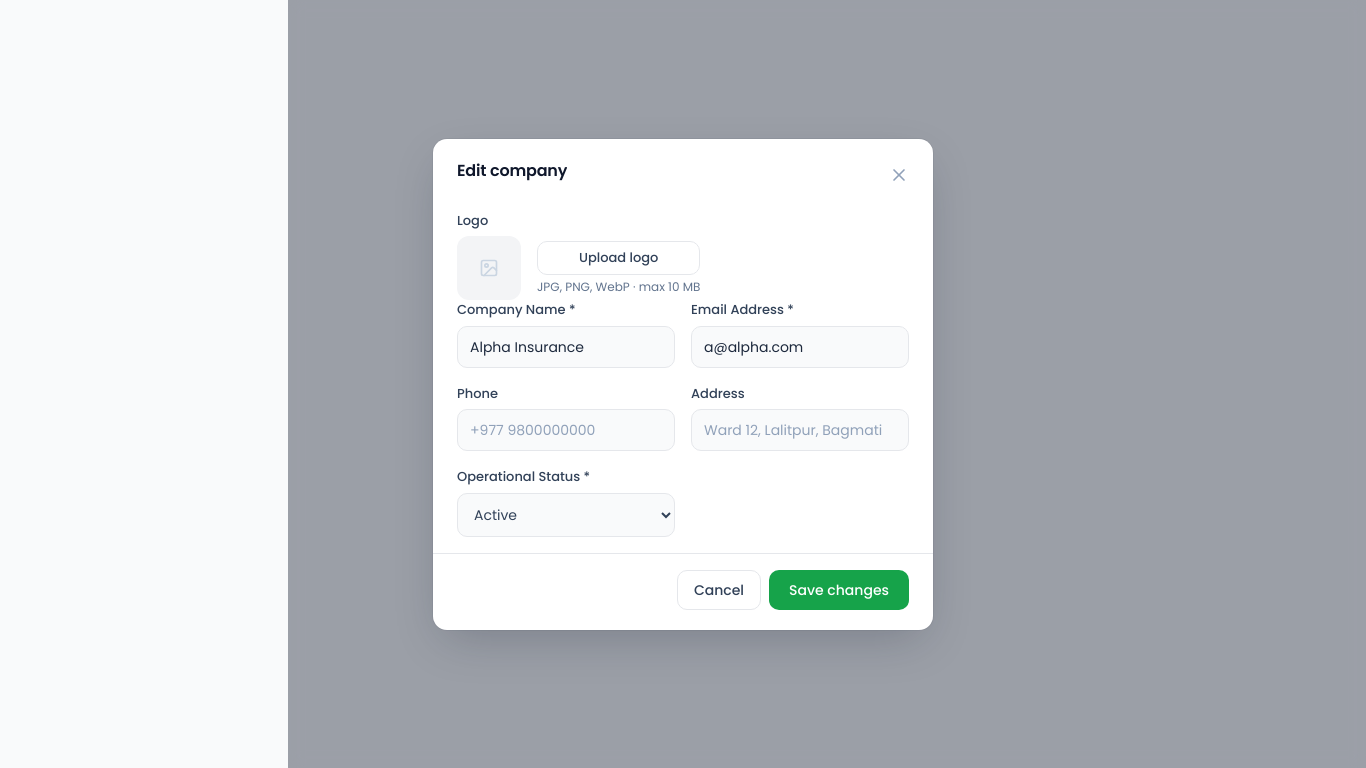
Test: CompanyModal › typed text is kept verbatim — "Jonas=" used to become "J"
Replace the text in the field showing "Alpha Insurance" with "Jonas= & Sons" at (566, 346), box x1=457 y1=326 x2=675 y2=368
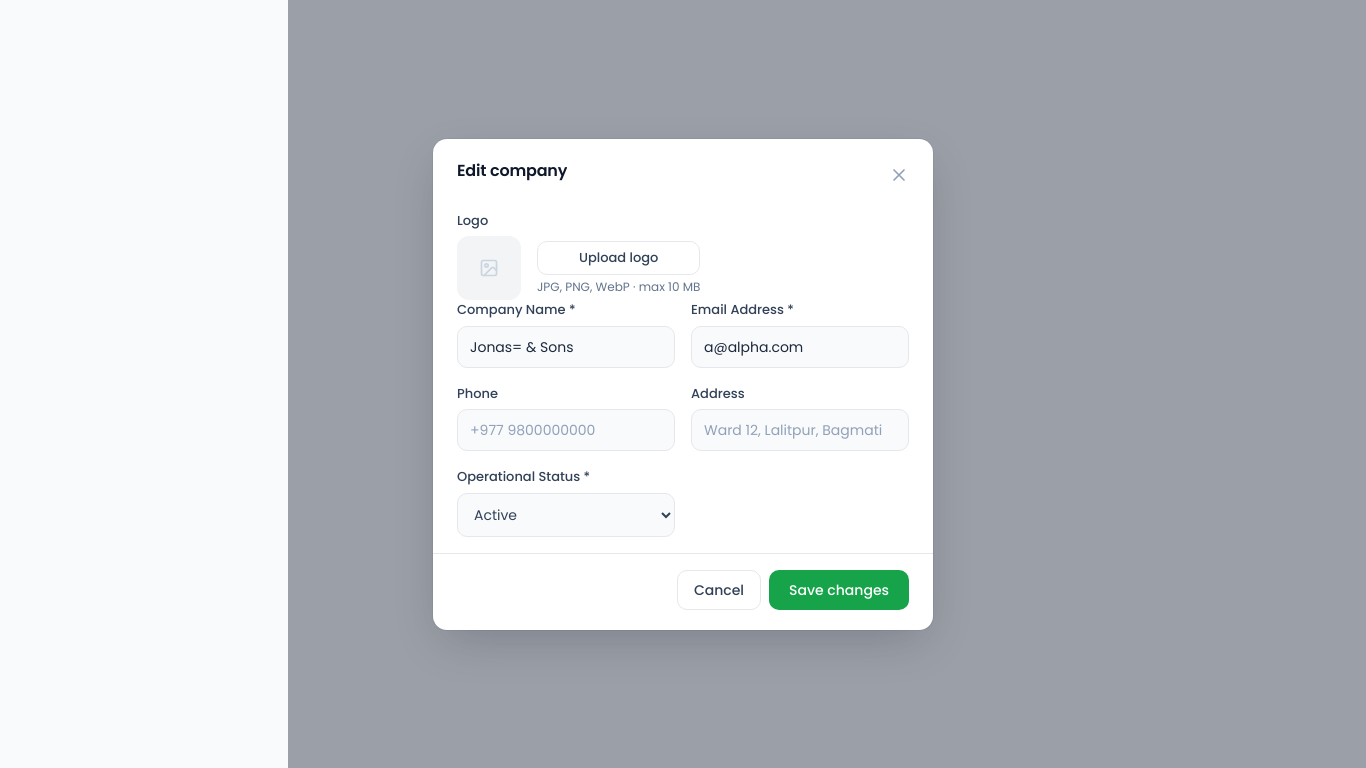
Replace the text in the field showing "Alpha Insurance" with "Jonas= & Sons <b>" at (566, 346), box x1=457 y1=326 x2=675 y2=368
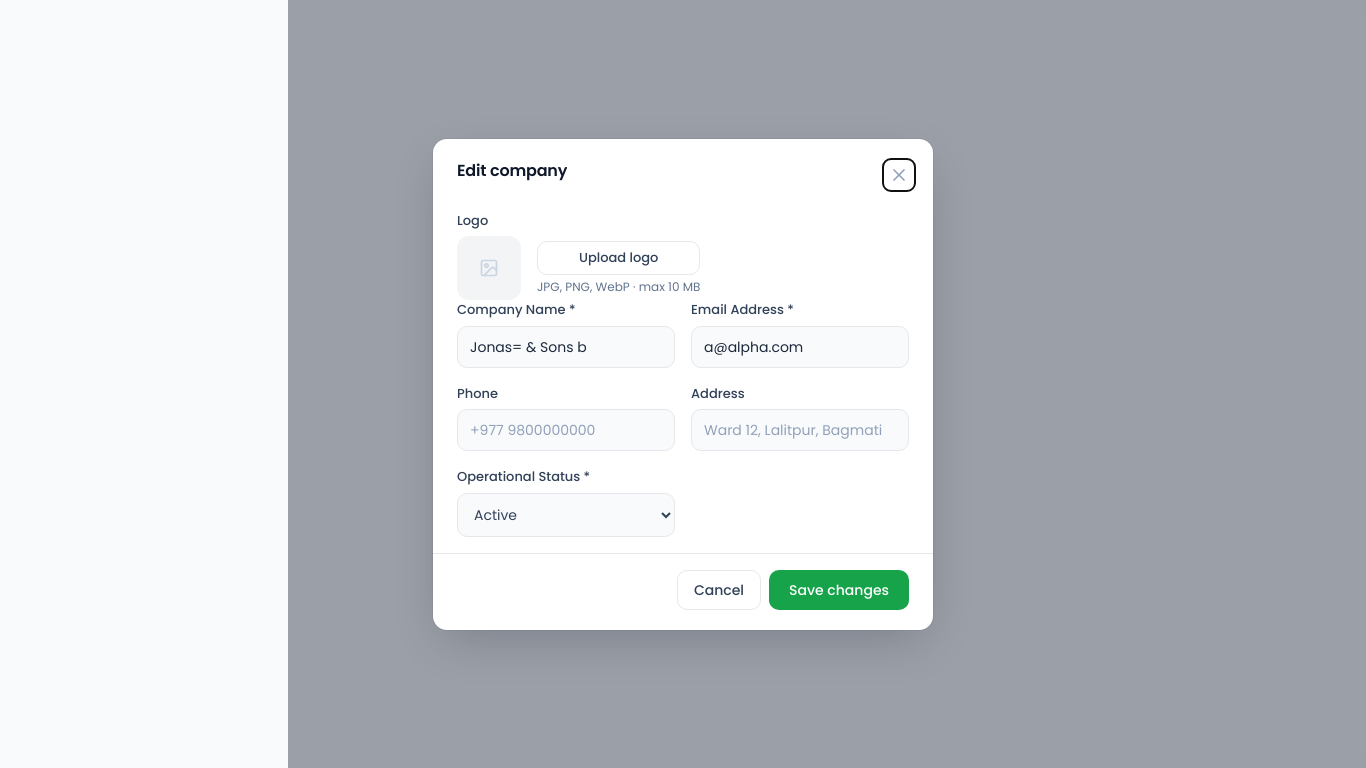
Now the field showing "Alpha Insurance" holds "Jonas= & Sons b", box x1=457 y1=326 x2=675 y2=368
